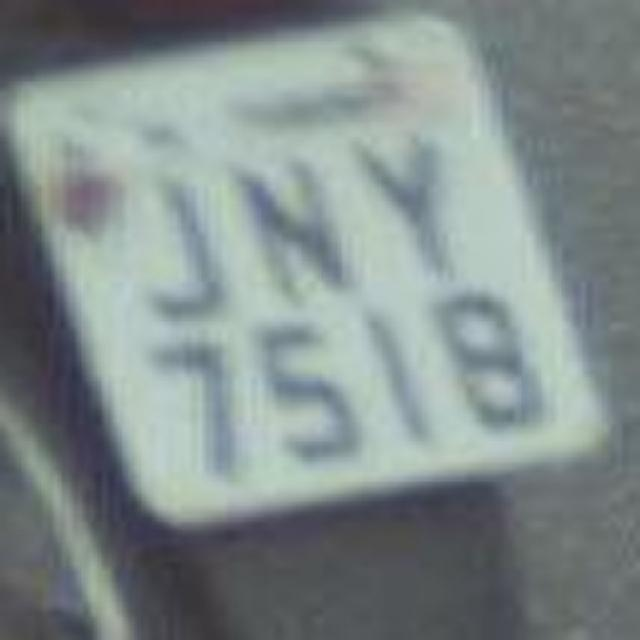1: (356, 300, 432, 452)
5: (245, 308, 360, 464)
7: (140, 316, 255, 489)
8: (428, 276, 544, 444)
J: (129, 168, 236, 324)
N: (224, 148, 351, 312)
Y: (331, 120, 464, 275)
